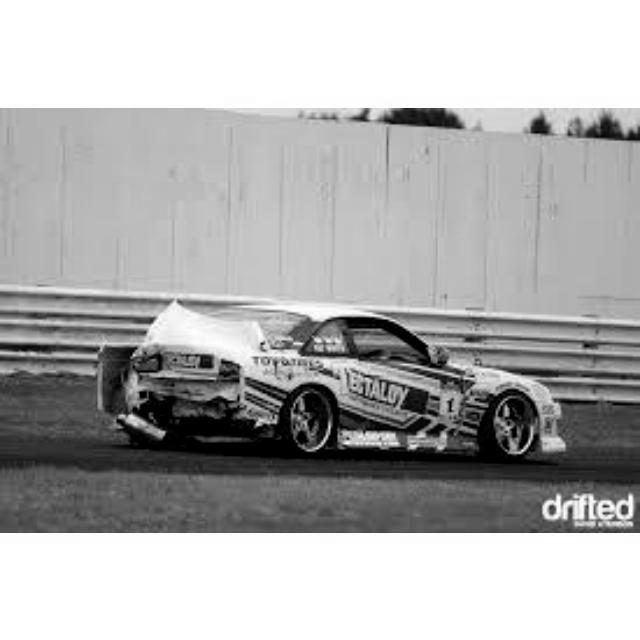boot-dent: (124, 342, 240, 402)
rear-bumper-dent: (152, 399, 270, 424)
